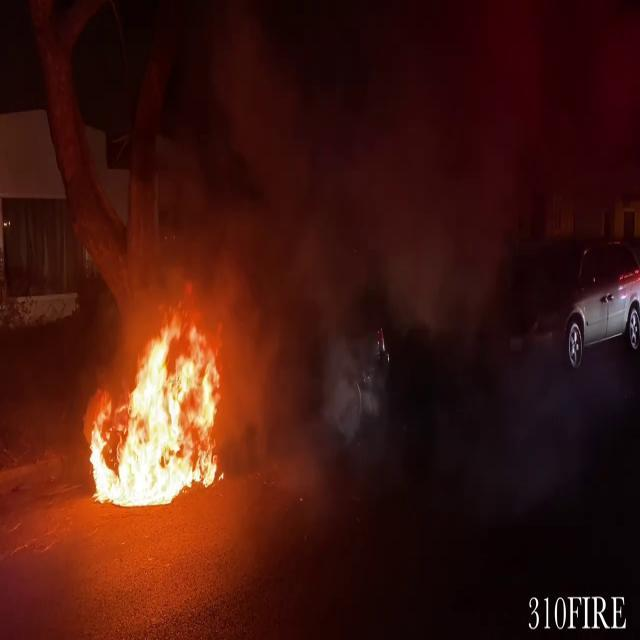Fire: (83, 309, 229, 512)
Smoke: (201, 1, 521, 508)
